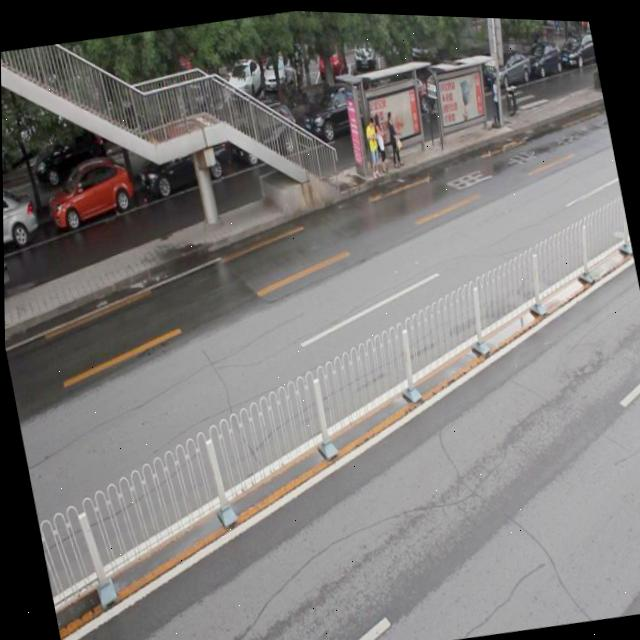car: (132, 114, 233, 197), (40, 151, 138, 232), (226, 94, 302, 167), (302, 73, 380, 143), (2, 183, 43, 255)
